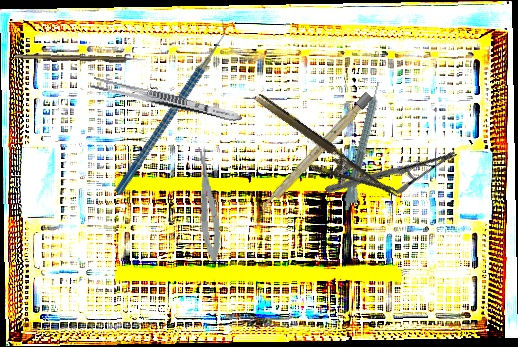Chopper: (70, 18, 270, 196)
Dressing Forceps: (89, 75, 244, 126)
Handpiece: (341, 80, 389, 213)
Hook Surgical: (14, 53, 146, 64)
Micro Scissor: (194, 145, 223, 262)
Needle Holder: (240, 91, 401, 220), (324, 105, 458, 239)
Scalpel Handle: (257, 91, 374, 215)
